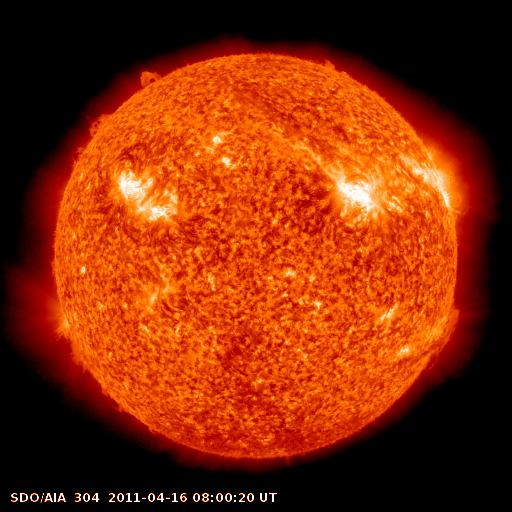prominence: (421, 301, 470, 372), (65, 108, 120, 169), (129, 60, 174, 97), (313, 50, 358, 82), (65, 335, 90, 375)
